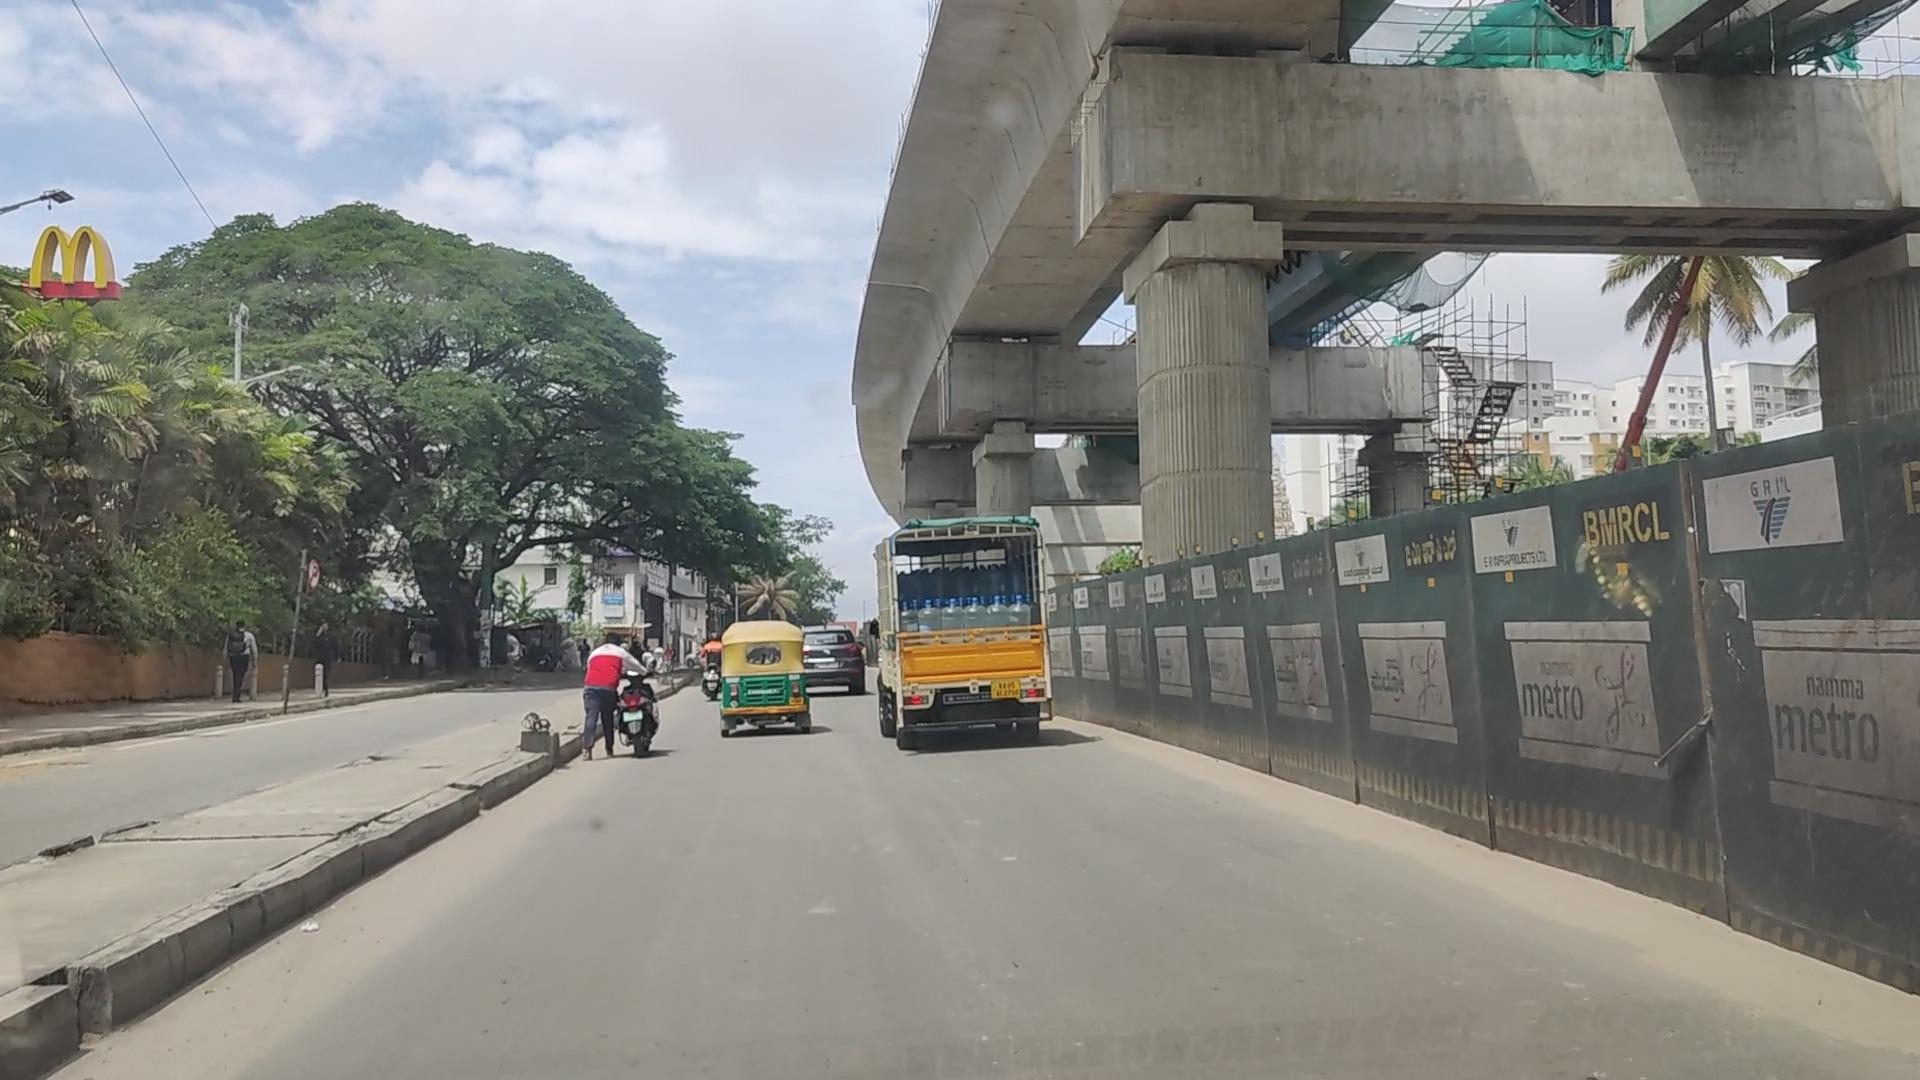HMV: (884, 512, 1058, 756)
LMV: (715, 620, 811, 737)
